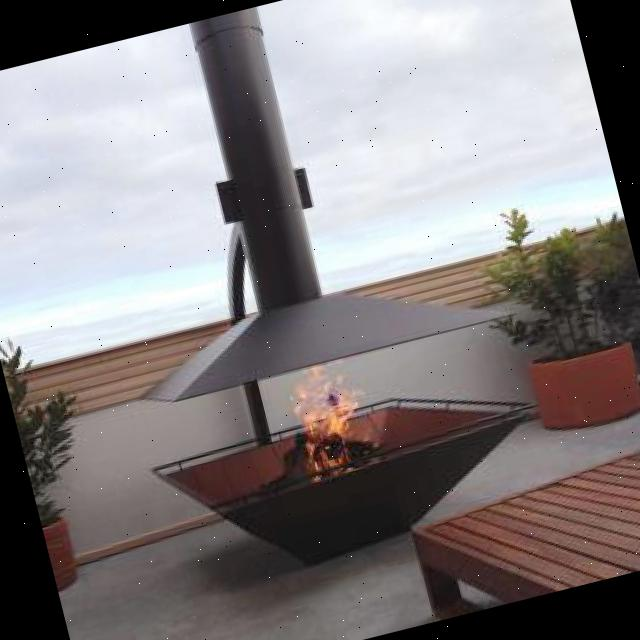fire: (258, 352, 376, 482)
